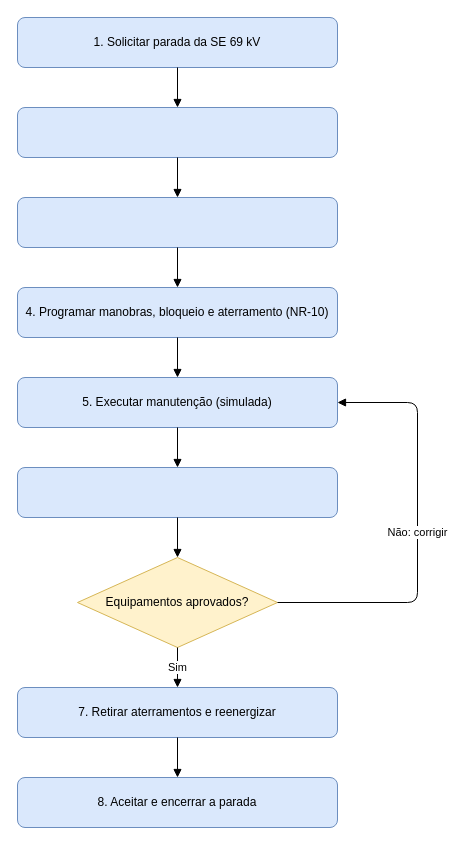
The diagram is 465 pixels wide and 845 high, and some of its shapes have lost their labels. Each missing label, with the centre of its shape:
2. Levantar equipamentos, histórico e pendências: point 177,132
3. Planejar serviços, recursos e cronograma: point 177,222
6. Inspecionar e realizar ensaios: point 177,492
